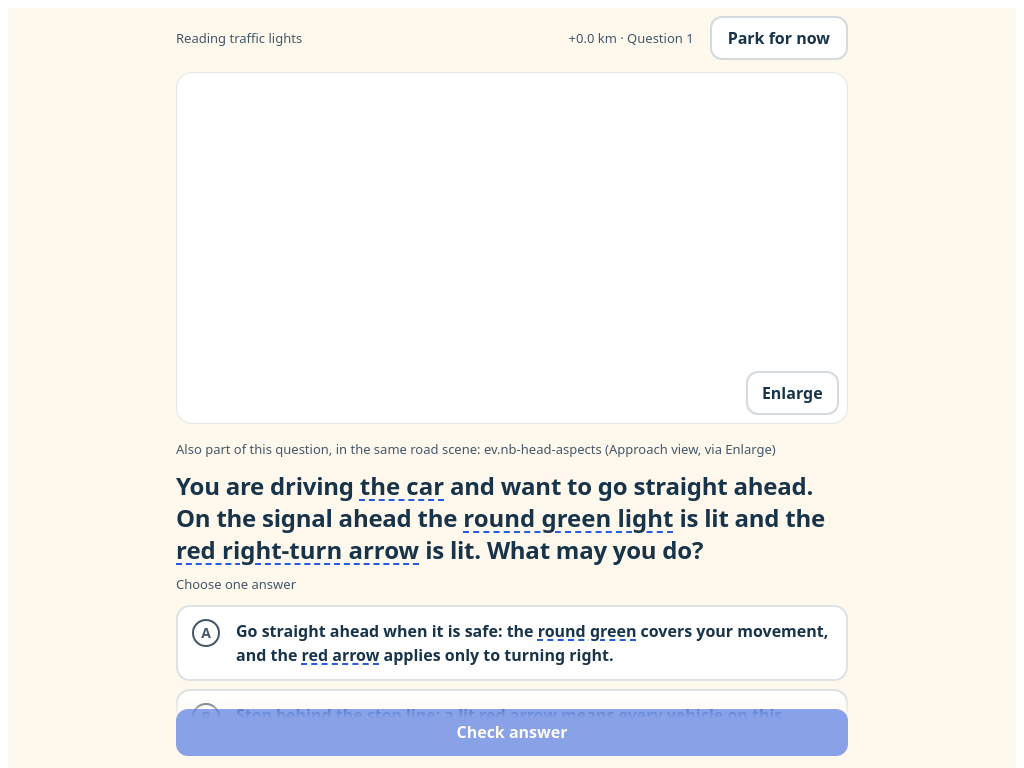
Test: LessonFeature (real starter content, R1/R2 stage, U2 store) › keeps attempt, seed, camera and traffic untouched while help and a comparison are open
This screenshot has width=1024, height=768.
Click the radio button at (512, 643), box x1=176 y1=605 x2=848 y2=681
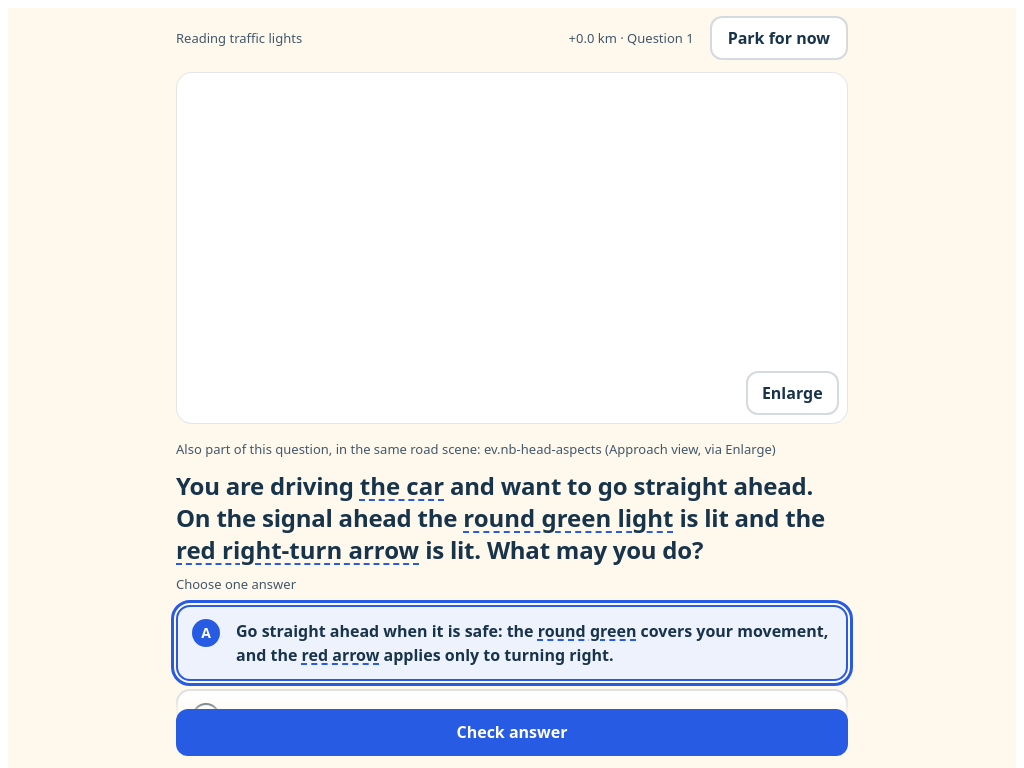
Click the button with aria-label "Show " at (402, 486), box x1=358 y1=470 x2=445 y2=502
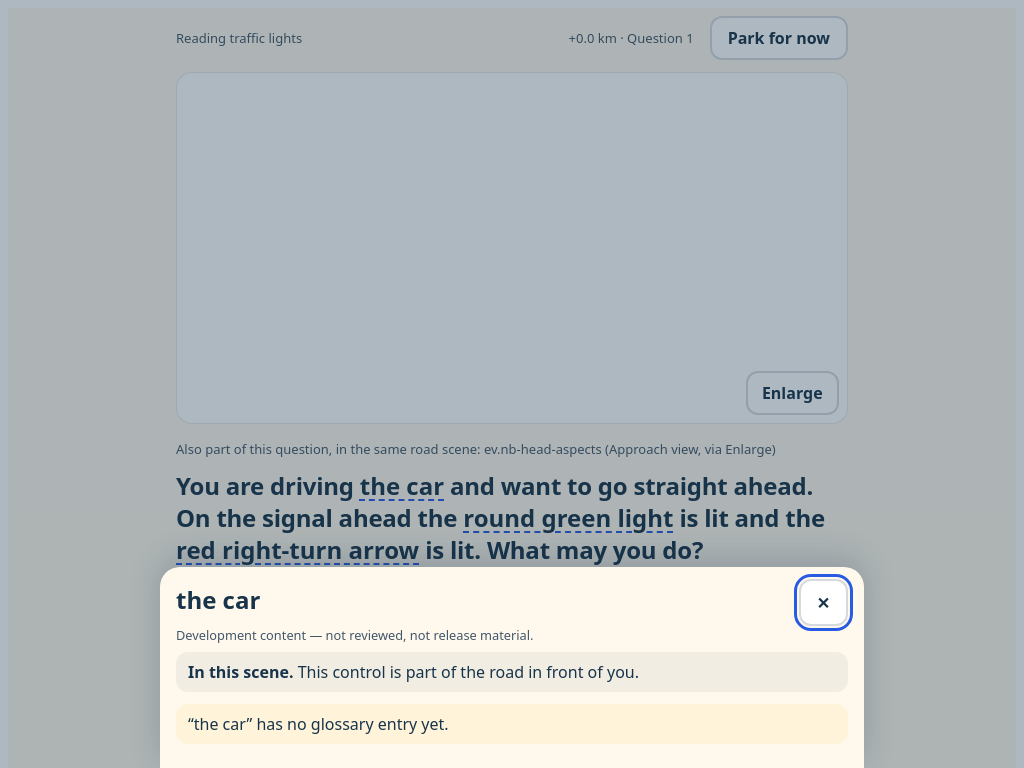
Expected: the dialog is shown, x1=160 y1=567 x2=864 y2=767
Click the button with test id "glossary-close" at (823, 603), box x1=799 y1=579 x2=848 y2=626
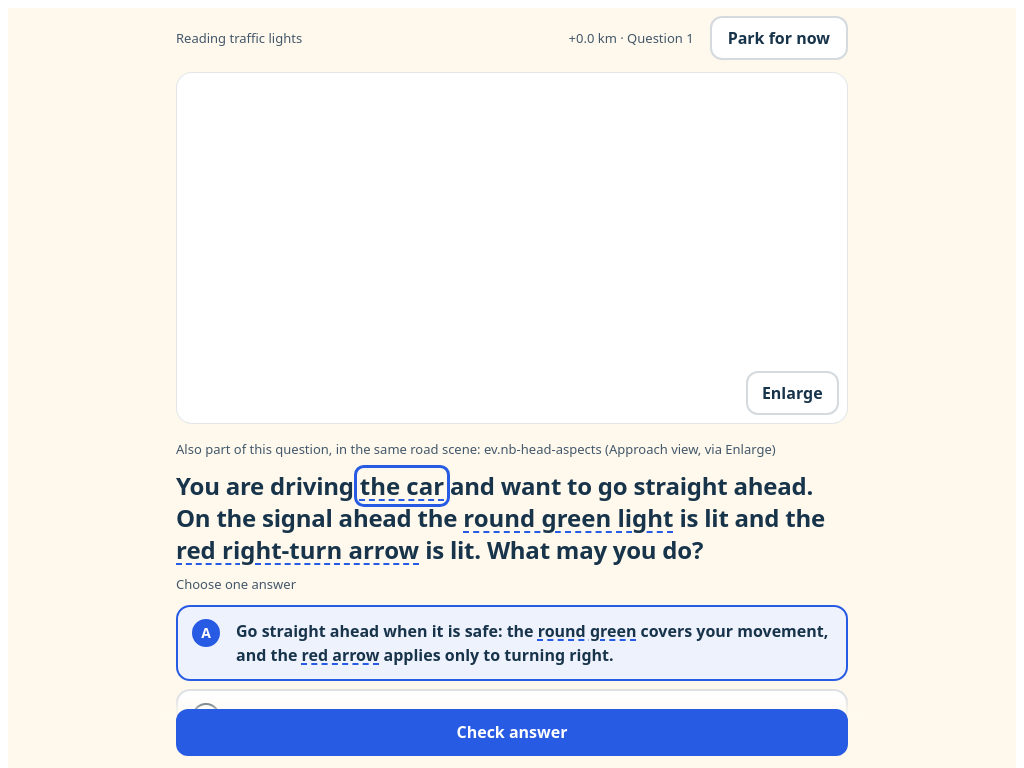
Expected: the dialog is gone
